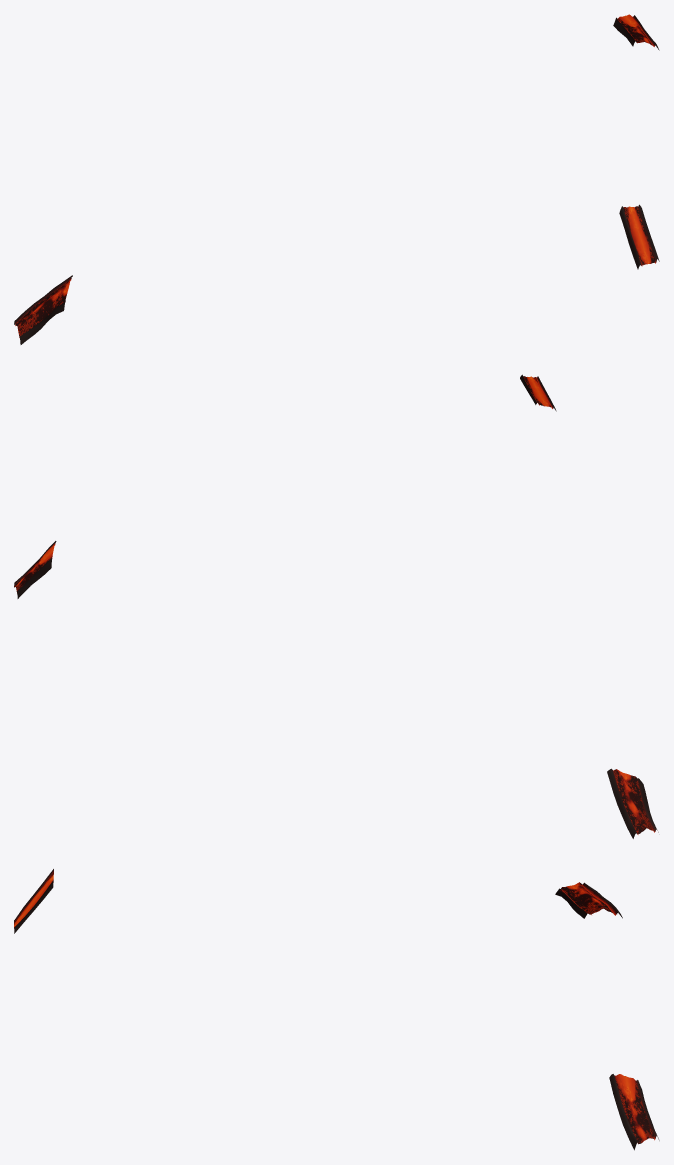
File: lava_seg_9.glb
3 views of the same model, one above another, from view 1: azimuth 30°, elevation 25°; view 2: azimuth 150°, elevation 25°; view 3: azimuth 270°, elevation 25° (orthographic). The views are drawn at different scales.
Parts seen in each view (by area): view 1: seg; view 2: seg; view 3: seg.
Boxes of the visible parts, x1=… form: seg: x1=14, y1=14, x2=659, y2=344; seg: x1=14, y1=374, x2=658, y2=838; seg: x1=14, y1=869, x2=659, y2=1150.
Bounding box in the file's own units: 109 × 35.33 × 82.48.
